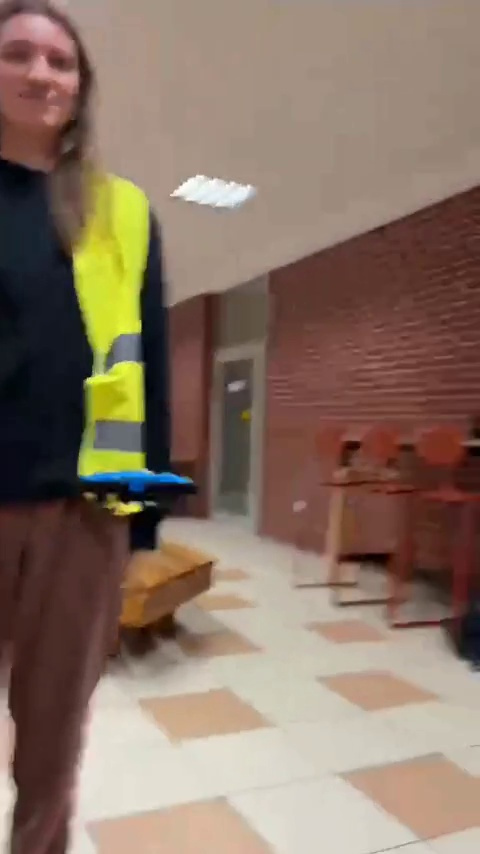drone: (95, 470, 203, 512)
vest: (0, 63, 179, 850)
